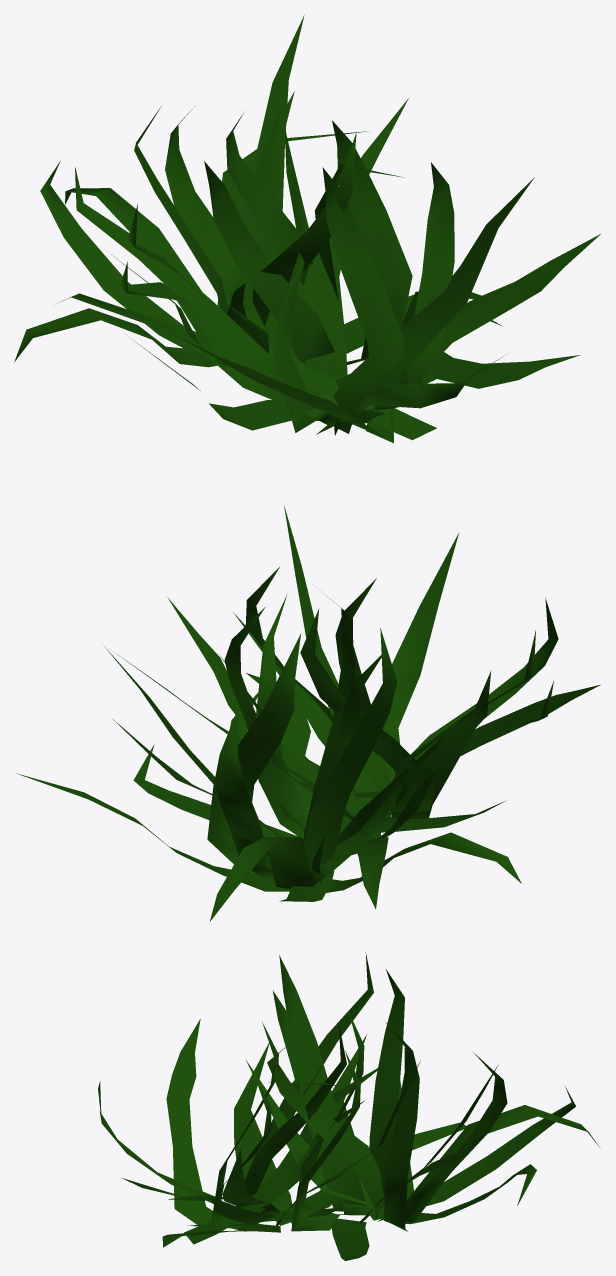
Rendered from bush_1.glb.
3 views of the same model, one above another, from view 1: azimuth 30°, elevation 25°; view 2: azimuth 150°, elevation 25°; view 3: azimuth 270°, elevation 25° (orthographic). The views are drawn at different scales.
Visible parts, largest first — view 1: grass2; view 2: grass2; view 3: grass2.
Boxes of the visible parts, x1,y1,x2,y2 form: grass2: (14,15,600,443); grass2: (16,505,600,921); grass2: (98,952,600,1260).
Size of the model in its own units: 2.46 by 1.35 by 3.31.
